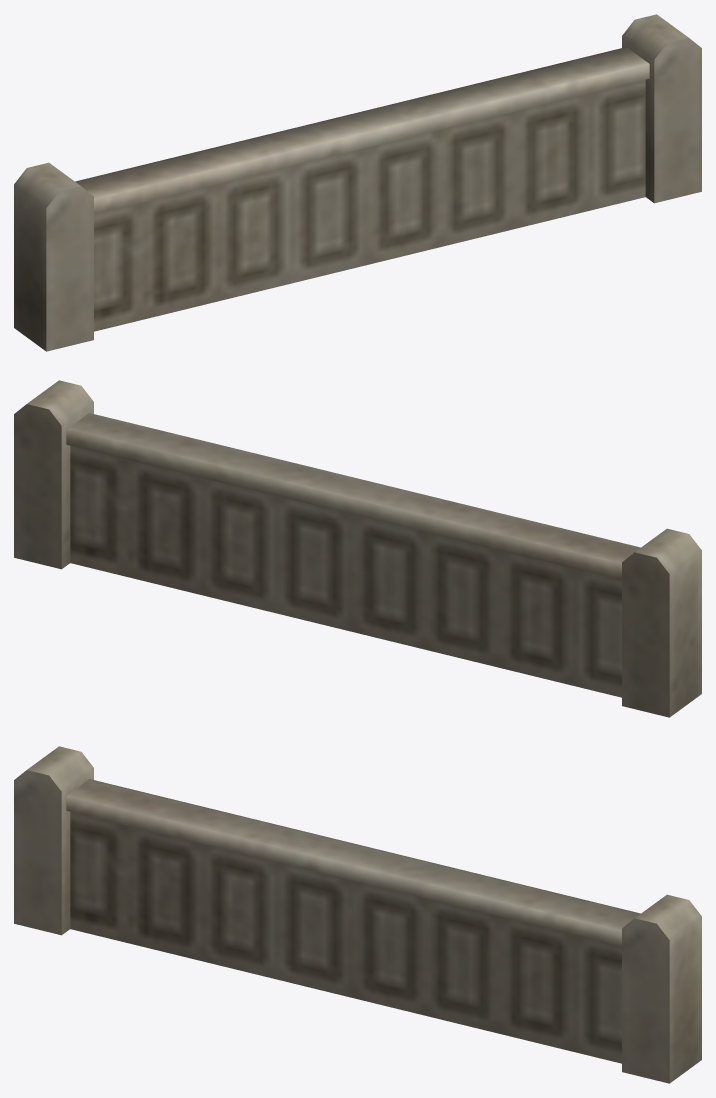
File: Wall_Low_Full.FBX
3 views of the same model, one above another, from view 1: azimuth 30°, elevation 25°; view 2: azimuth 150°, elevation 25°; view 3: azimuth 330°, elevation 25° (orthographic).
Visible parts, largest first — view 1: Wall_Low_Full; view 2: Wall_Low_Full; view 3: Wall_Low_Full.
Boxes of the visible parts, x1,y1,x2,y2 form: Wall_Low_Full: [14, 14, 701, 351]; Wall_Low_Full: [14, 380, 701, 717]; Wall_Low_Full: [14, 746, 701, 1083].
Size of the model in its own units: 863 by 197 by 73.89.
